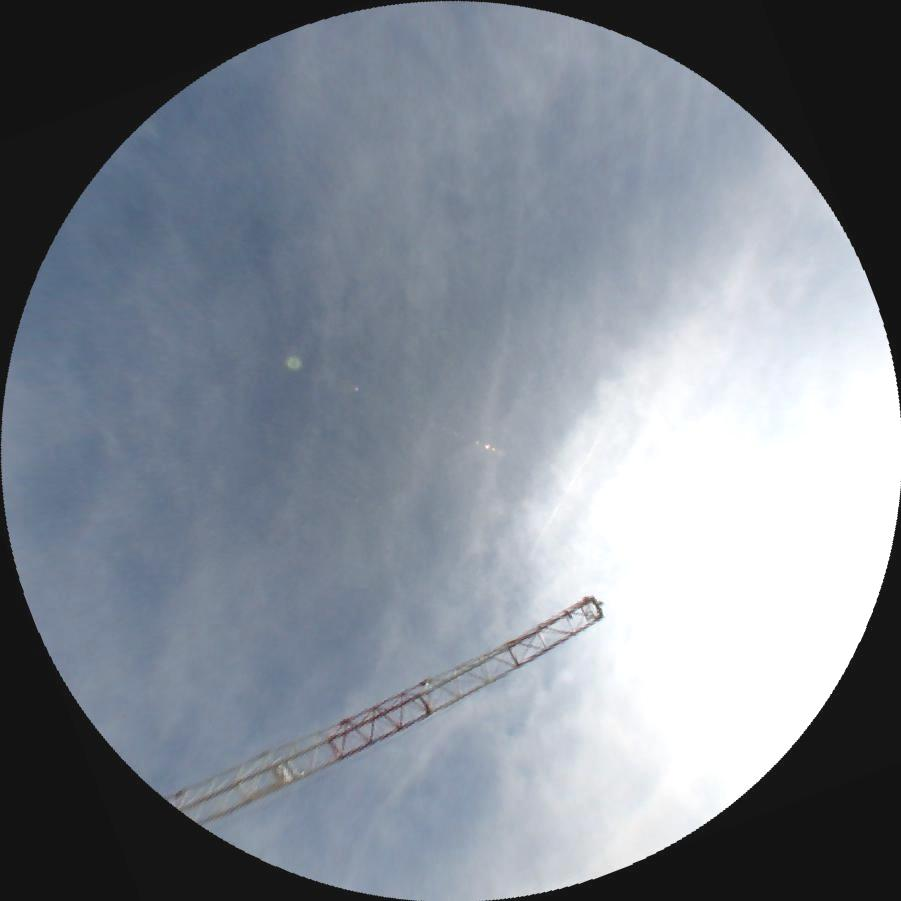contrail young: (524, 432, 603, 559)
